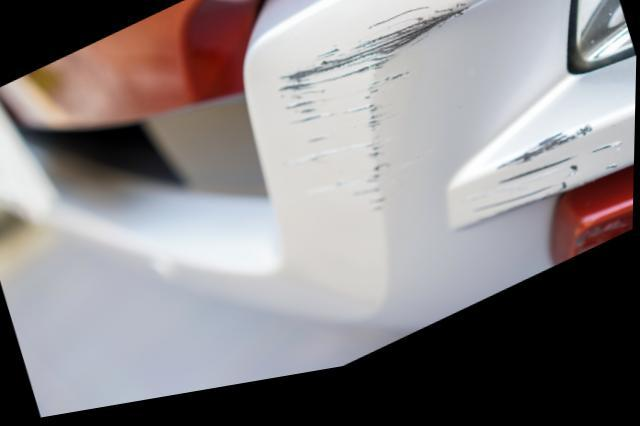scratch: (273, 10, 473, 228), (458, 142, 627, 248)
